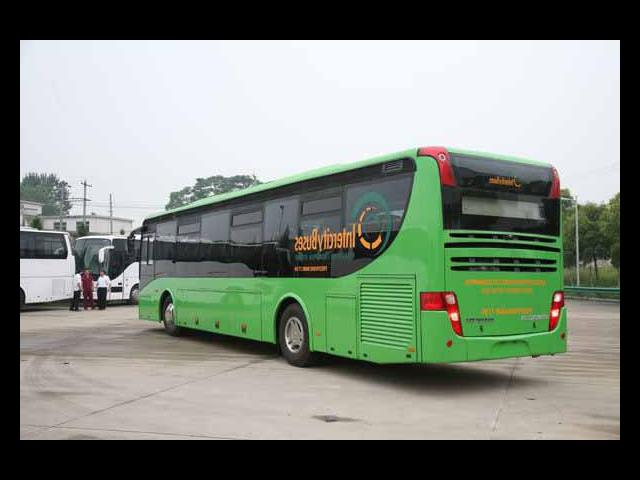bus: (124, 143, 569, 374)
